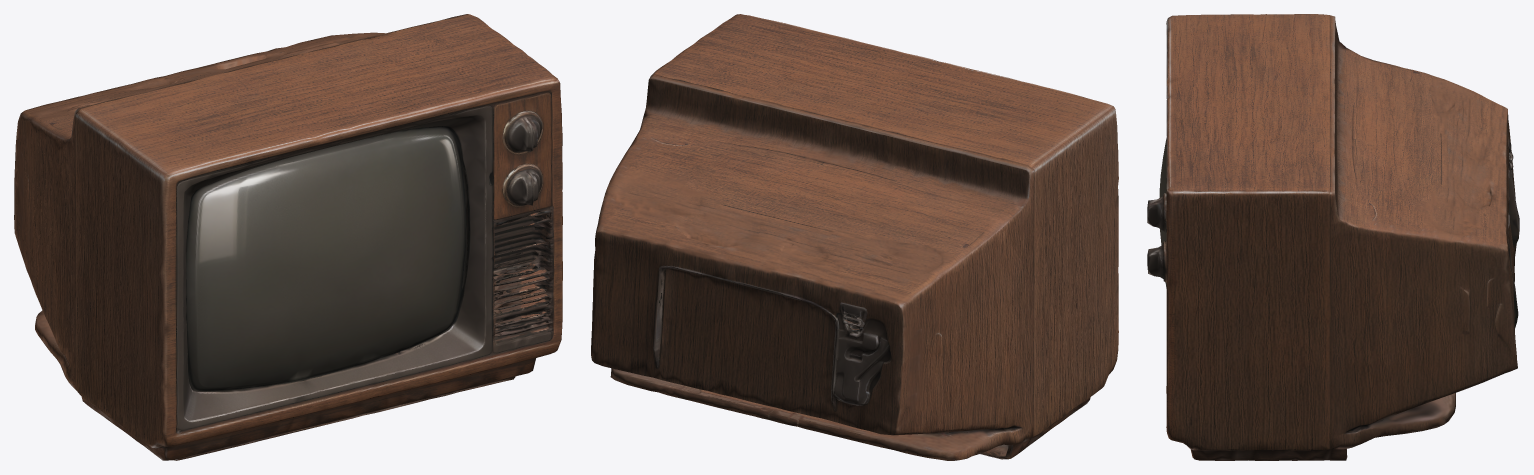
File: VAR_LivingRoom_CRTTV.fbx
3 renders of one model, left to right at view 1: azimuth 30°, elevation 25°; view 2: azimuth 150°, elevation 25°; view 3: azimuth 270°, elevation 25°, orthographic. The views are drawn at different scales.
Visible parts, largest first — view 1: texture_mapping; view 2: texture_mapping; view 3: texture_mapping.
Boxes of the visible parts, x1,y1,x2,y2 form: texture_mapping: (14, 14, 562, 460); texture_mapping: (591, 14, 1118, 460); texture_mapping: (1147, 14, 1519, 460).
Bounding box in the file's own units: 1 × 0.8798 × 0.7364.
Materials: 1 (1 with a texture image).
